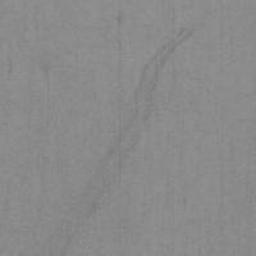Water spot: (32, 22, 201, 256)
